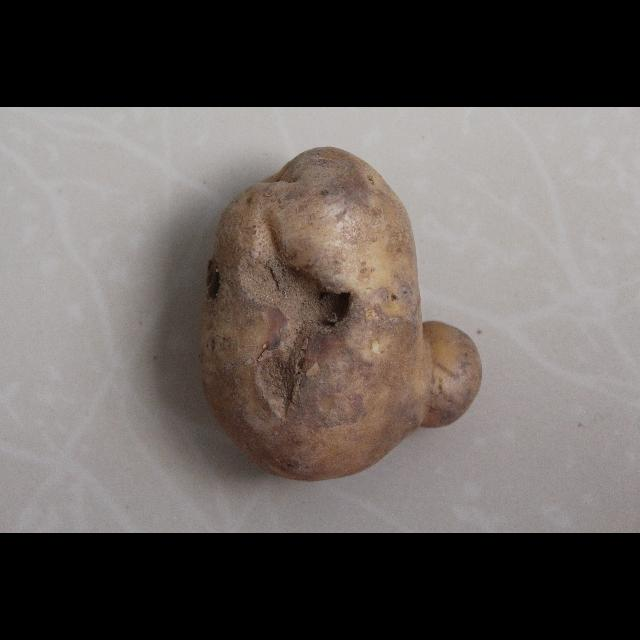Diseased-fungal potato: (196, 142, 482, 484)
